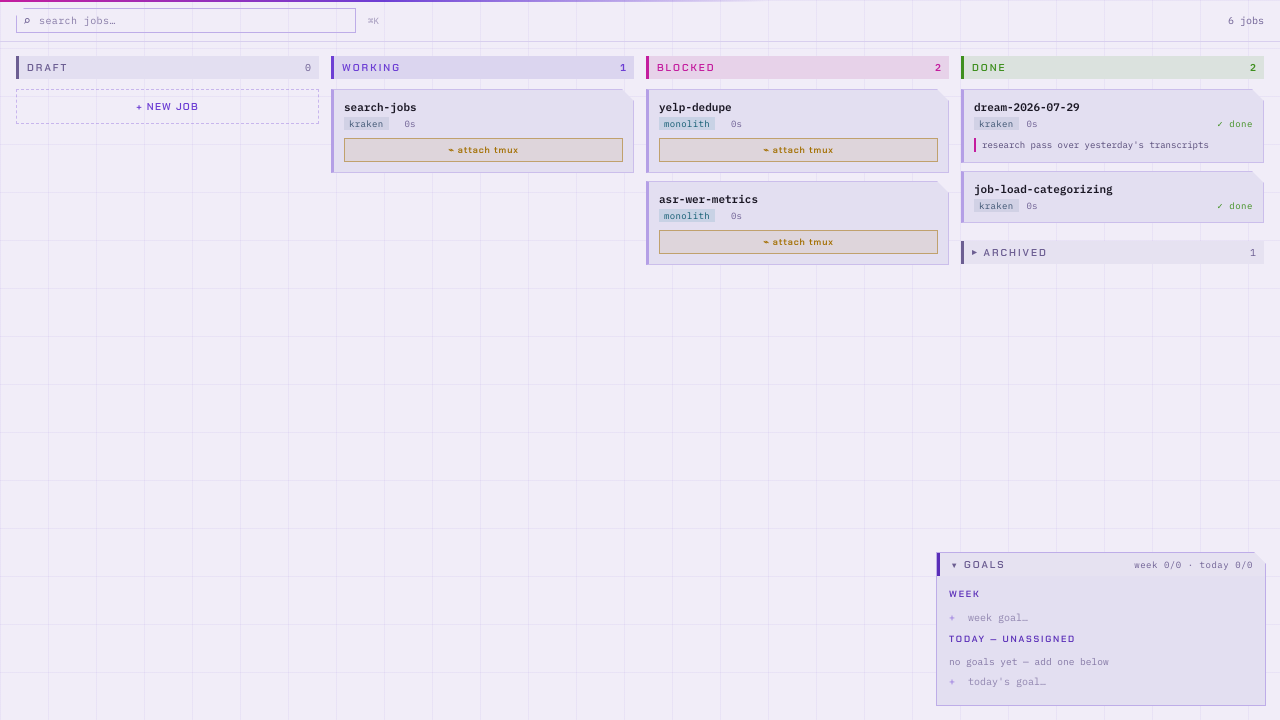
Test: the search bar › disables the drawer toggle while the query is what holds it open
This screenshot has width=1280, height=720.
Type "index" into the field with id "job-search" at (186, 20), box [16, 8, 356, 33]
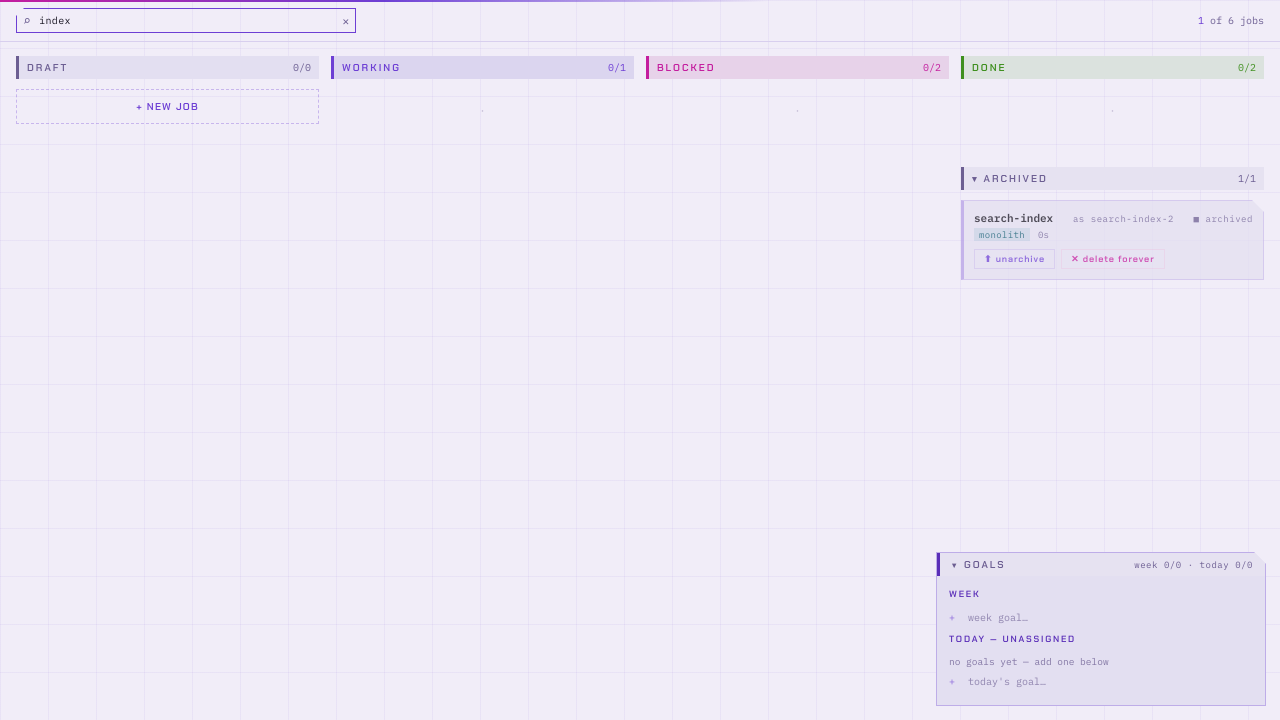
Result: the button with id "archive-toggle" is disabled
Click the button with id "archive-toggle" at (1016, 178), box [961, 167, 1264, 190]
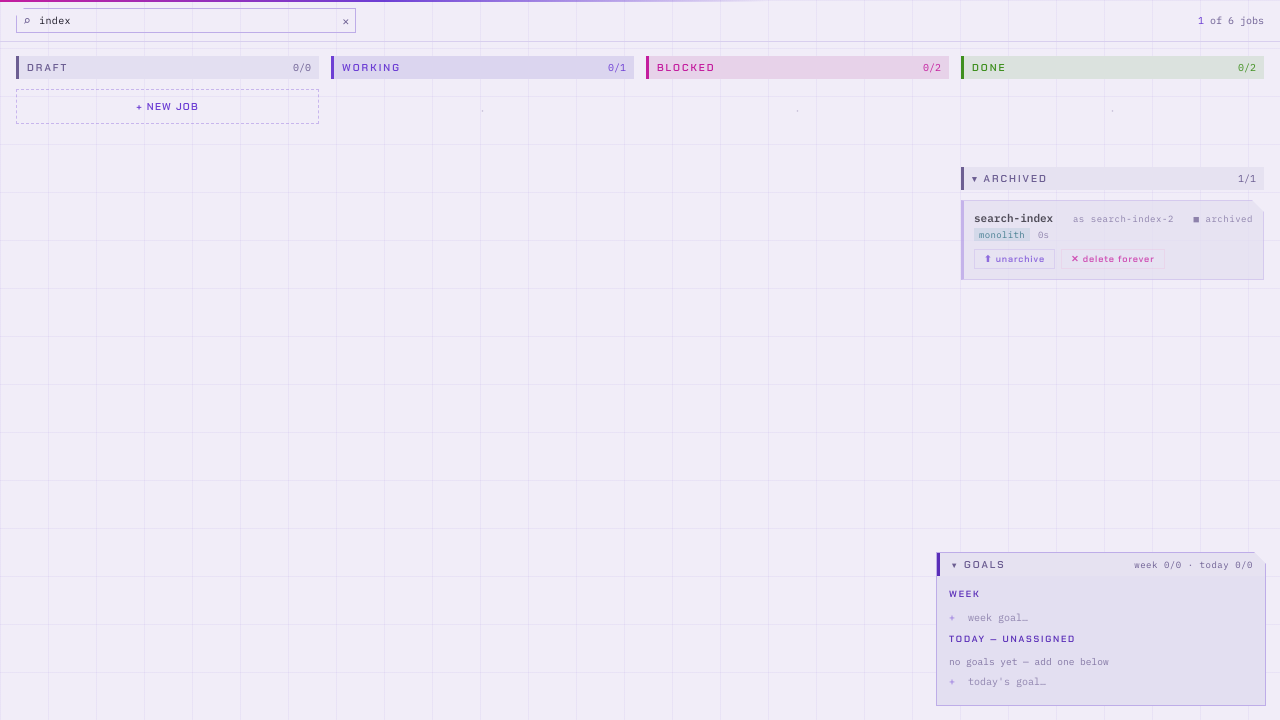
Note: and it comes straight back once the query stops holding it
Click the button with class "bb-clear" at (346, 20), box [339, 14, 352, 28]
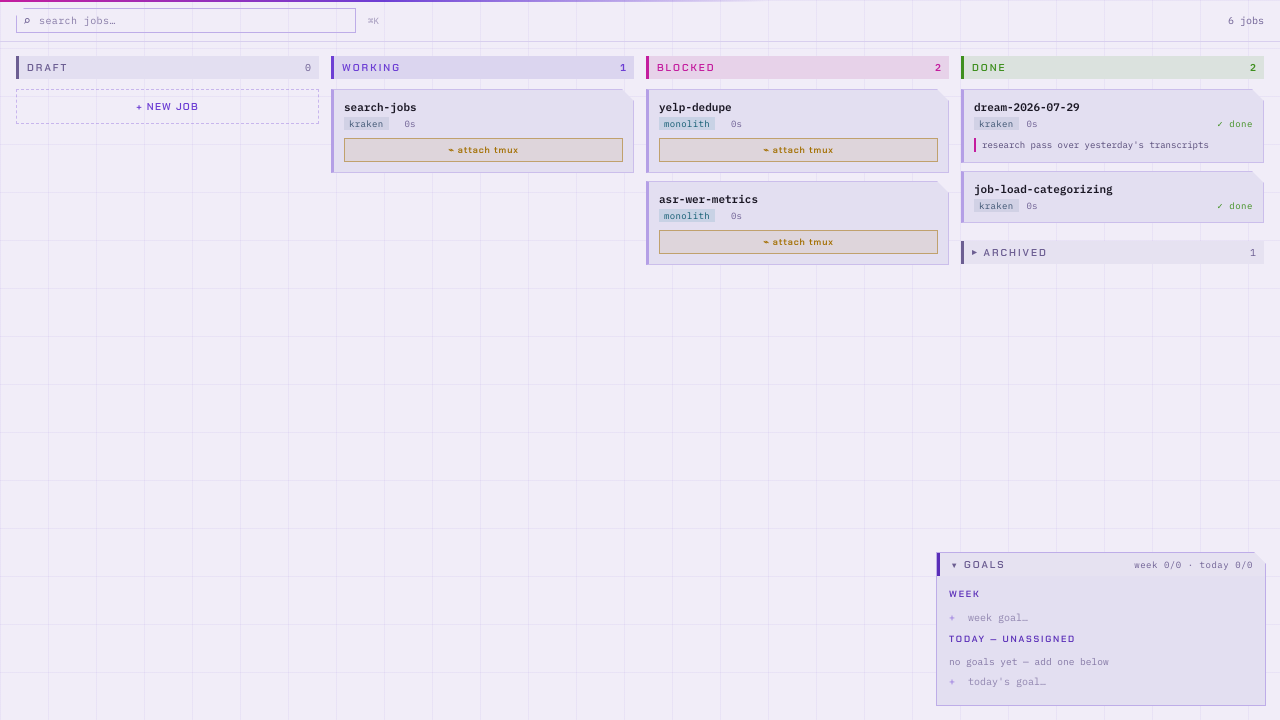
Result: the button with id "archive-toggle" is enabled at [961, 241, 1264, 264]
